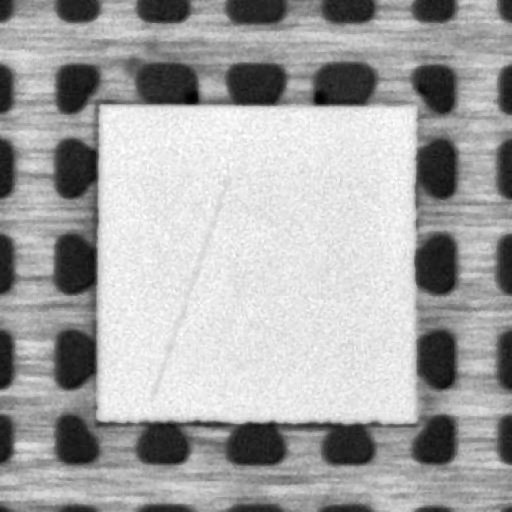DIE_CRACK: (150, 182, 226, 400)
